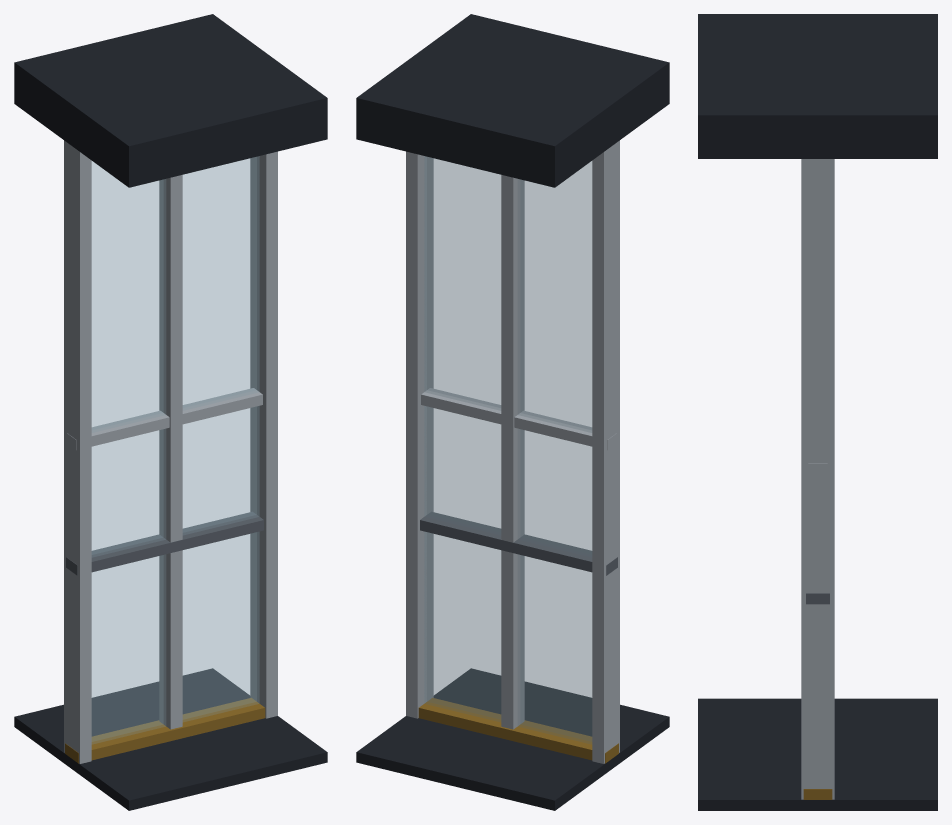
Rendered from wall_glass.glb.
3 views of the same model, side by side, from view 1: azimuth 30°, elevation 25°; view 2: azimuth 150°, elevation 25°; view 3: azimuth 270°, elevation 25° (orthographic). The views are drawn at different scales.
Parts seen in each view (by area): view 1: wall_glass; view 2: wall_glass; view 3: wall_glass.
Boxes of the visible parts, box(x1,y1,x2,y2) form: wall_glass: box(14, 14, 327, 810); wall_glass: box(356, 14, 669, 810); wall_glass: box(698, 14, 937, 810).
Size of the model in its own units: 1 by 3.2 by 1.
